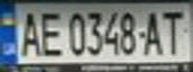0: (63, 8, 87, 57)
3: (84, 7, 106, 56)
4: (103, 7, 121, 56)
8: (118, 7, 139, 56)
A: (15, 7, 45, 57), (139, 7, 166, 56)
E: (36, 7, 66, 57)
T: (157, 6, 190, 56)
